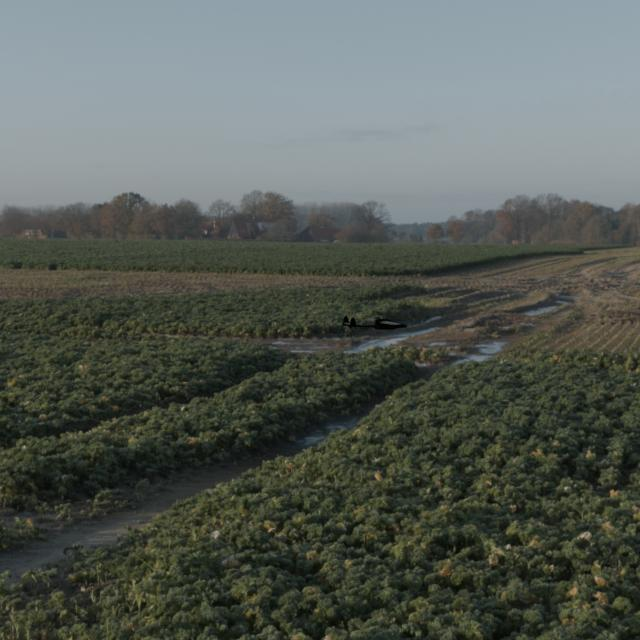Airaplan: (342, 316, 408, 330)
